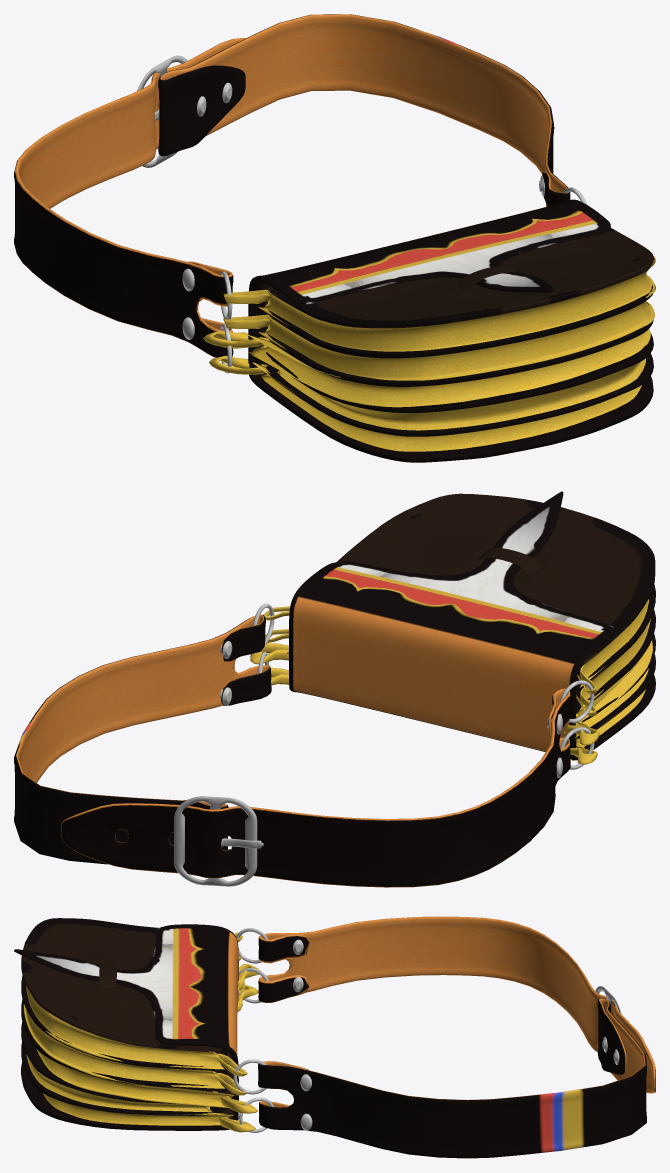
The model's file is cariel 12 bolsillos.fbx.
3 views of the same model, one above another, from view 1: azimuth 30°, elevation 25°; view 2: azimuth 150°, elevation 25°; view 3: azimuth 270°, elevation 25° (orthographic). The views are drawn at different scales.
Parts seen in each view (by area): view 1: Correa_derecha, Correa_izquierda, tapa6, tapa1, interior_1, Interior_2, Interior3, Interior_4, Interior_5, tapa5, tapa4, tapa2 (+1 smaller); view 2: tapa6, Correa_izquierda, Correa_derecha, tapa1, Boche_del_cinturon, Interior3, interior_1, Interior_2, Interior_5, tapa3, tapa2, broche_central (+1 smaller); view 3: Correa_derecha, Correa_izquierda, tapa6, tapa1, interior_1, Interior_2, Interior3, Interior_5, Interior_4, tapa5, tapa4, tapa2 (+2 smaller).
Part boxes in pixels (left/top/right/bottom): Correa_derecha: left=158, top=14, right=570, bottom=206; Correa_izquierda: left=14, top=38, right=246, bottom=357; tapa6: left=248, top=199, right=653, bottom=462; tapa1: left=266, top=228, right=653, bottom=328; interior_1: left=223, top=255, right=655, bottom=351; Interior_2: left=223, top=284, right=655, bottom=380; Interior3: left=203, top=329, right=650, bottom=407; Interior_4: left=262, top=358, right=645, bottom=430; Interior_5: left=209, top=355, right=641, bottom=451; tapa5: left=266, top=353, right=653, bottom=436; tapa4: left=266, top=333, right=653, bottom=412; tapa2: left=268, top=285, right=652, bottom=358; tapa6: left=289, top=491, right=655, bottom=760; Correa_izquierda: left=61, top=688, right=570, bottom=887; Correa_derecha: left=14, top=614, right=271, bottom=864; tapa1: left=337, top=493, right=655, bottom=663; Boche_del_cinturon: left=174, top=796, right=257, bottom=886; Interior3: left=250, top=640, right=652, bottom=745; interior_1: left=264, top=599, right=648, bottom=693; Interior_2: left=265, top=618, right=650, bottom=716; Interior_5: left=271, top=667, right=645, bottom=764; tapa3: left=576, top=610, right=655, bottom=707; tapa2: left=576, top=584, right=655, bottom=685; broche_central: left=477, top=548, right=541, bottom=574; Correa_derecha: left=258, top=998, right=646, bottom=1158; Correa_izquierda: left=258, top=916, right=655, bottom=1093; tapa6: left=14, top=924, right=238, bottom=1130; tapa1: left=21, top=918, right=222, bottom=1051; interior_1: left=26, top=932, right=247, bottom=1076; Interior_2: left=23, top=955, right=246, bottom=1095; Interior3: left=36, top=964, right=261, bottom=1113; Interior_5: left=43, top=984, right=258, bottom=1132; Interior_4: left=26, top=1054, right=224, bottom=1114; tapa5: left=21, top=1042, right=227, bottom=1115; tapa4: left=21, top=1022, right=226, bottom=1103; tapa2: left=21, top=975, right=226, bottom=1070.
Bounding box in the file's own units: 295 × 91.1 × 433.
Materials: 12 (11 with a texture image).
